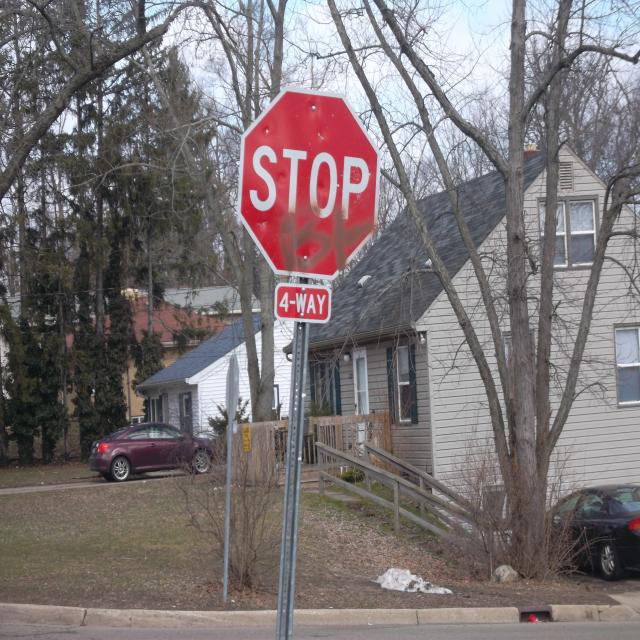stop: (235, 81, 384, 283)
